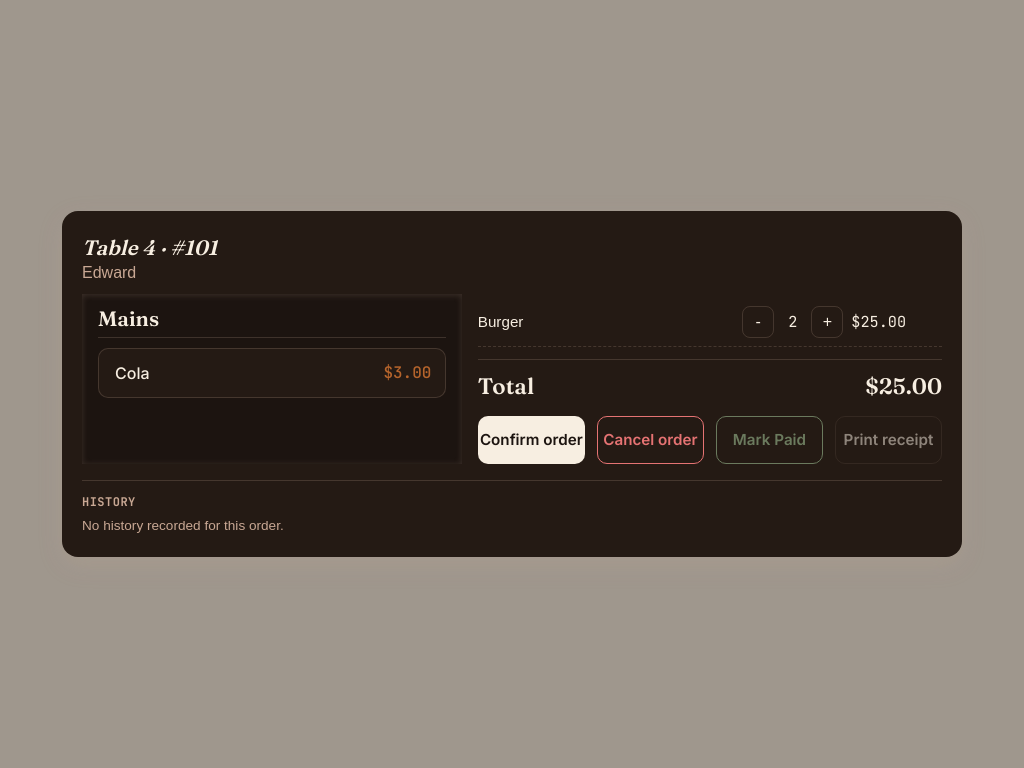
Test: OrderDetailModal › does not cancel when "Never mind" is clicked
Click the button "Cancel order": (650, 440) [597,416,704,464]
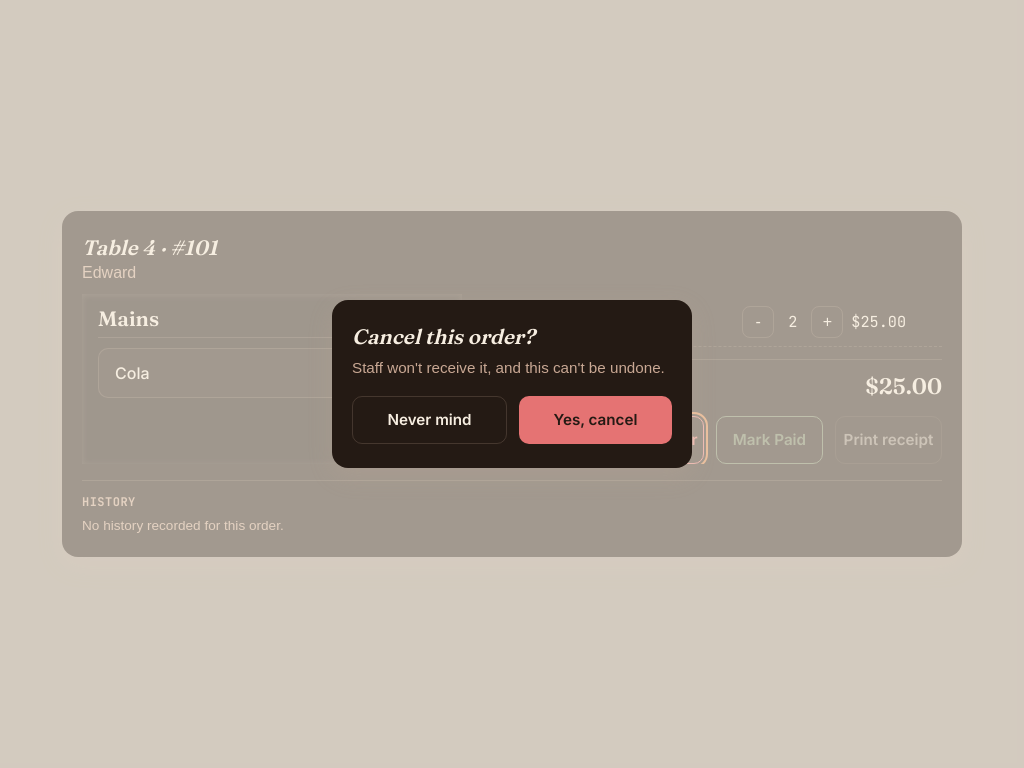
Click the button "Never mind": (430, 420) [352,396,507,444]
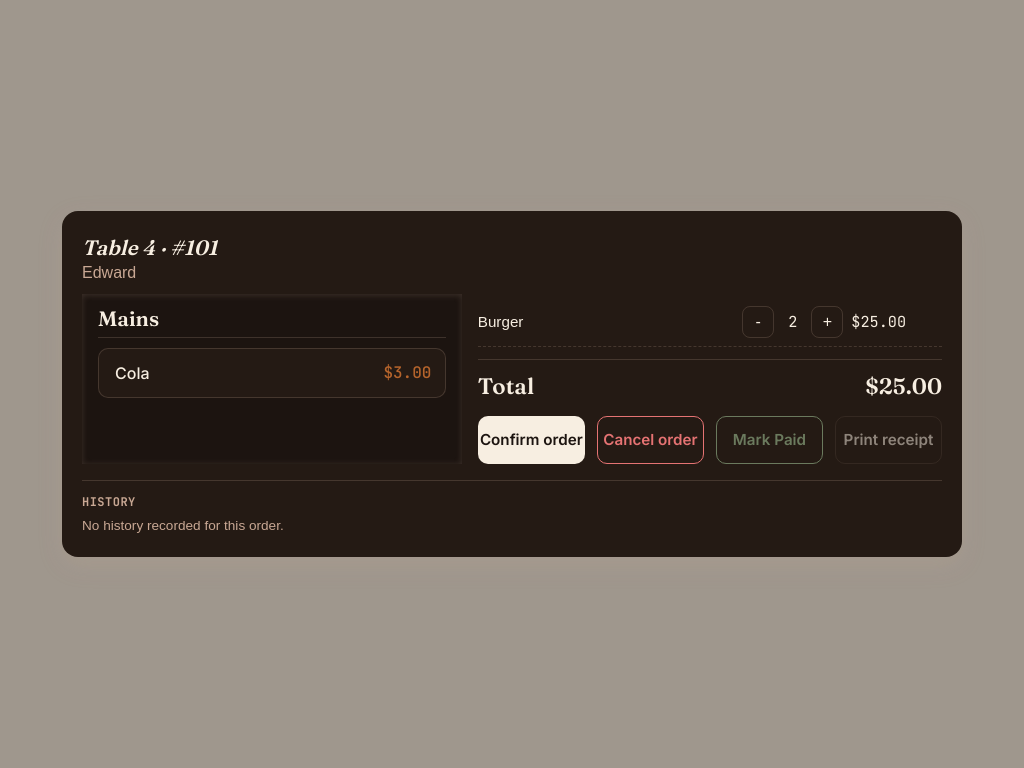
expect the heading "Cancel this order?" is gone: met
